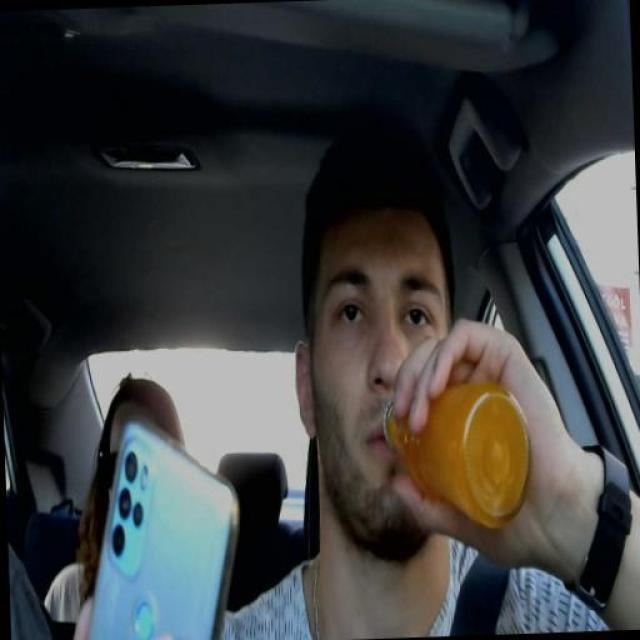phone: (81, 414, 235, 639)
